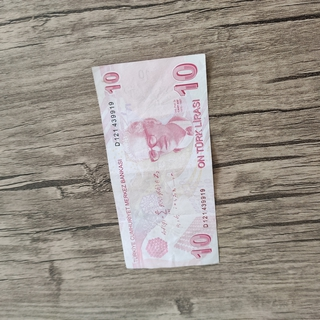10TLBack: (89, 52, 219, 269)
